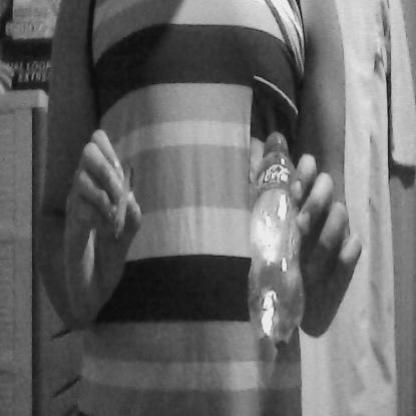Plastic Bottle: (241, 121, 308, 351)
